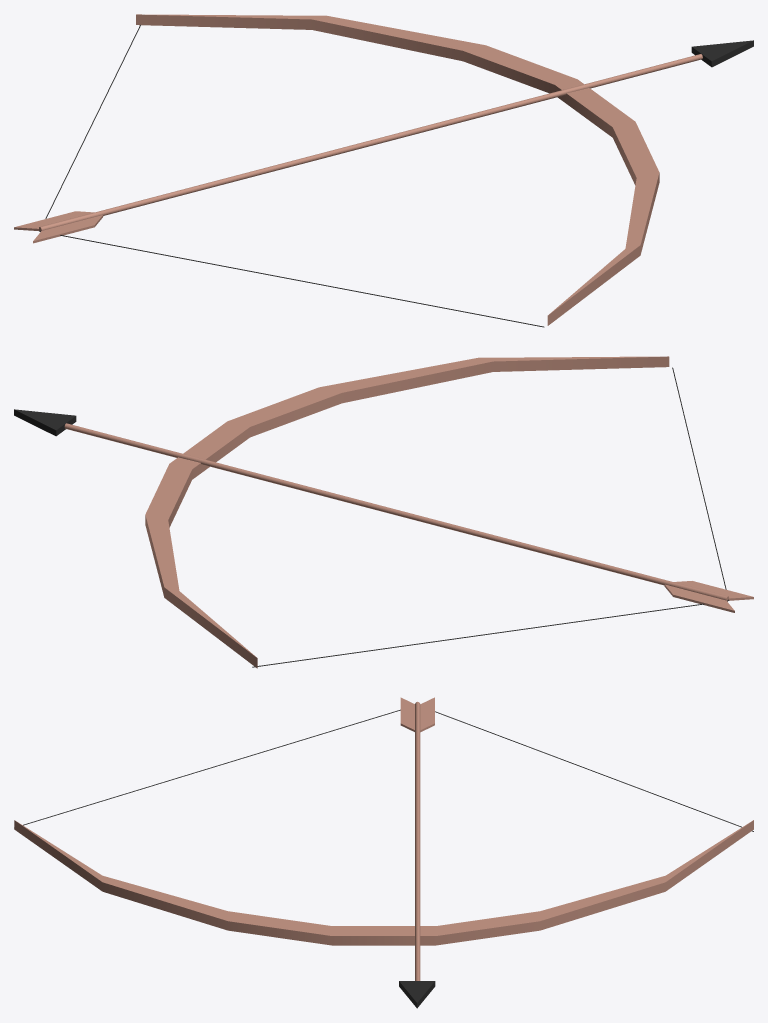
File: c4a4b982-7feb-489c-8f26-4862fce9ebb9.glb
The picture shows the model from 3 angles, top to bottom: view 1: azimuth 30°, elevation 25°; view 2: azimuth 150°, elevation 25°; view 3: azimuth 270°, elevation 25°; orthographic projection. The views are drawn at different scales.
Parts seen in each view (by area): view 1: Box001, Cylinder001, Line002, Box002, Box005; view 2: Box001, Cylinder001, Line002, Box002, Box004; view 3: Box001, Cylinder001, Line002, Box002.
Boxes of the visible parts, <box> form: Box001: <box>136,14,659,325</box>; Cylinder001: <box>39,54,702,230</box>; Line002: <box>39,25,544,327</box>; Box002: <box>691,40,753,67</box>; Box005: <box>33,215,103,243</box>; Box001: <box>145,356,669,668</box>; Cylinder001: <box>64,423,729,601</box>; Line002: <box>252,367,729,667</box>; Box002: <box>14,409,76,436</box>; Box004: <box>664,584,734,612</box>; Box001: <box>14,820,753,945</box>; Cylinder001: <box>415,701,420,980</box>; Line002: <box>23,709,753,831</box>; Box002: <box>399,981,435,1008</box>.
Bounding box in the file's own units: 2357556 × 56360 × 2302430.
